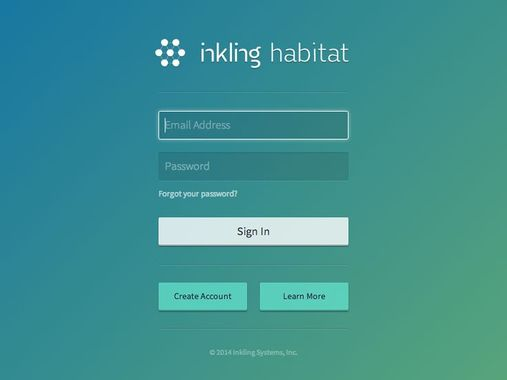button: (157, 215, 350, 248), (258, 281, 351, 313), (157, 281, 249, 313)
field: (157, 109, 351, 141), (158, 150, 351, 182)
